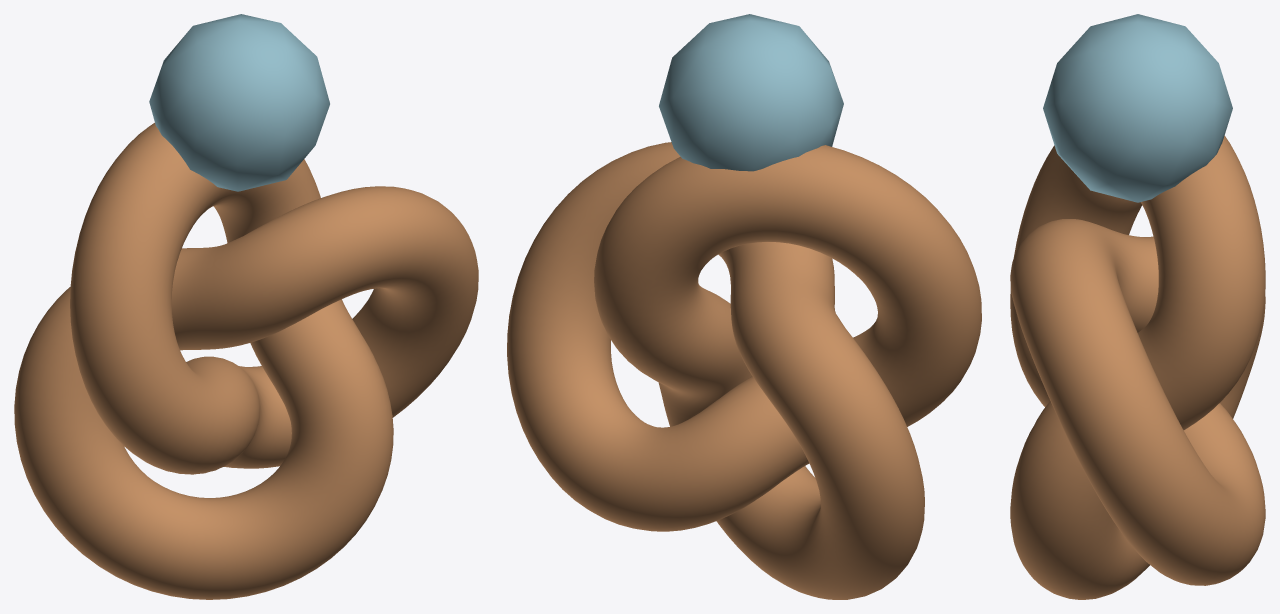
File: core.glb
The picture shows the model from 3 angles, left to right: view 1: azimuth 30°, elevation 25°; view 2: azimuth 150°, elevation 25°; view 3: azimuth 270°, elevation 25°; orthographic projection. The views are drawn at different scales.
Size of the model in its own units: 1.7 by 2.16 by 0.8598.
